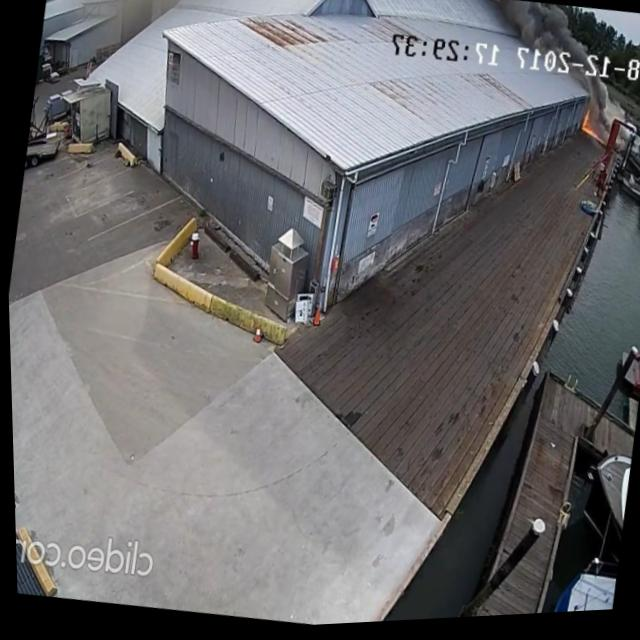fire: (578, 115, 590, 139), (578, 131, 597, 145)
